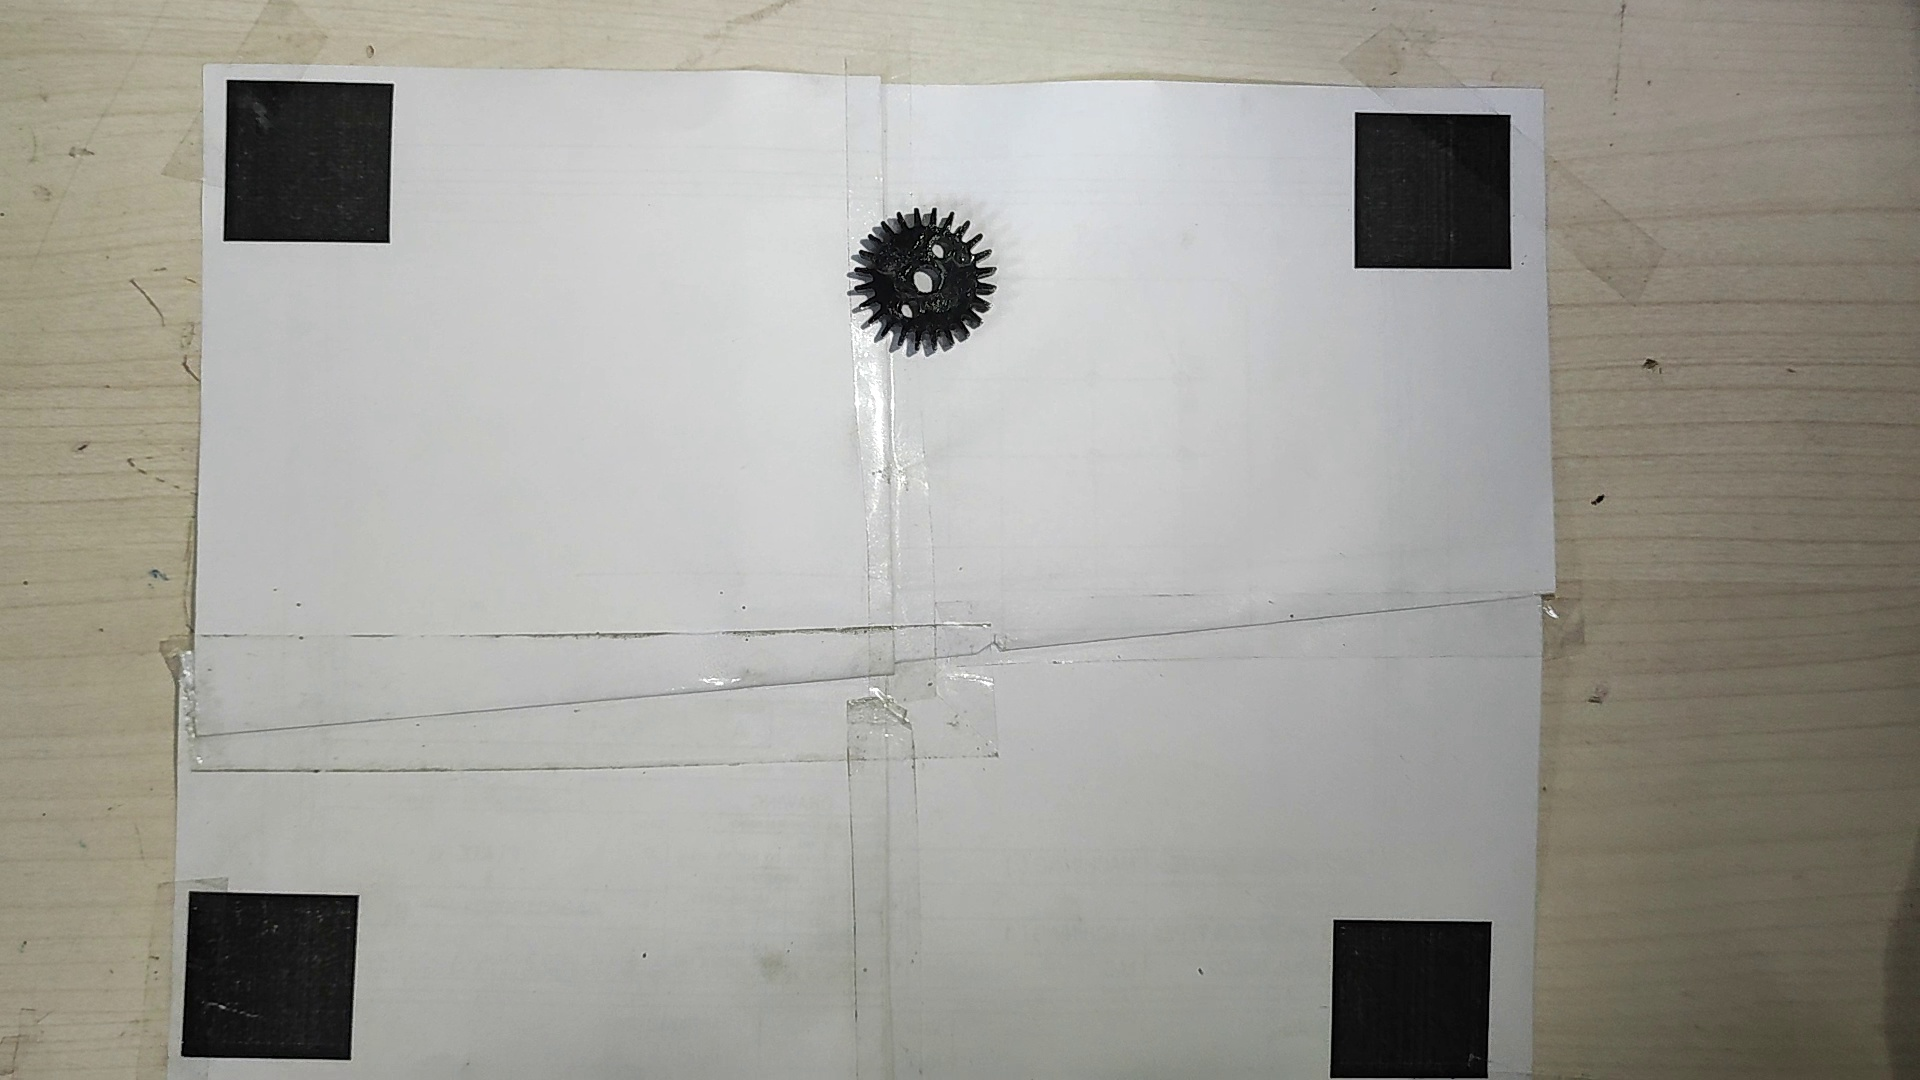Gear: (843, 202, 1005, 360)
